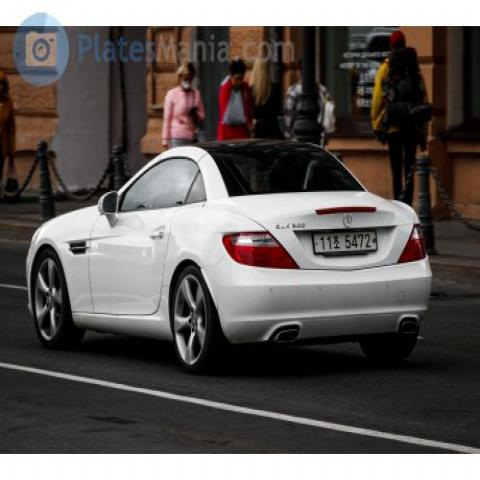LP: (304, 226, 388, 262)
